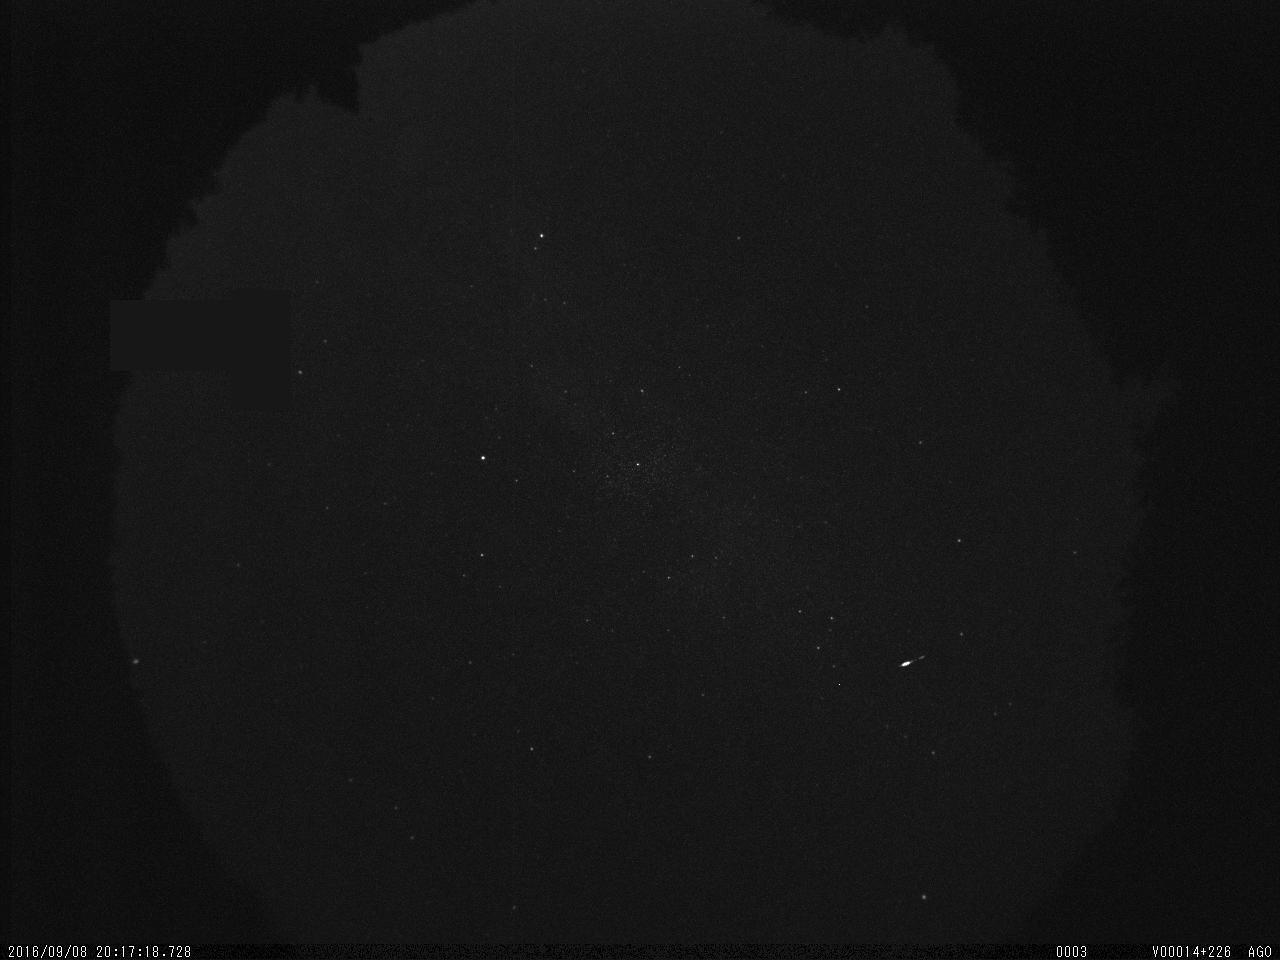meteor: (896, 645, 931, 678)
